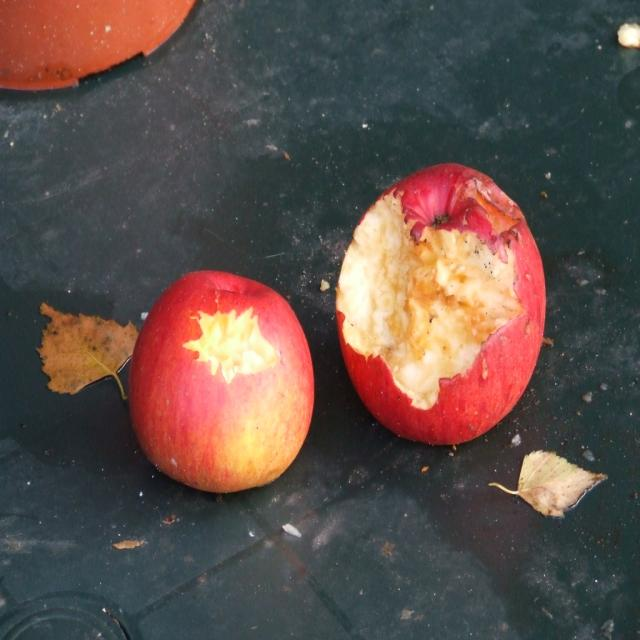Healty Apple: (331, 163, 546, 452), (128, 264, 315, 496)
